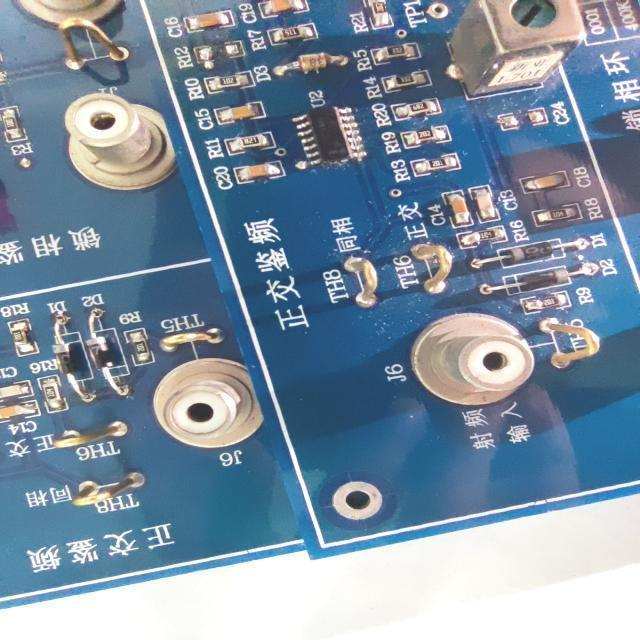Missing component: (171, 32, 256, 75), (490, 96, 578, 137)
